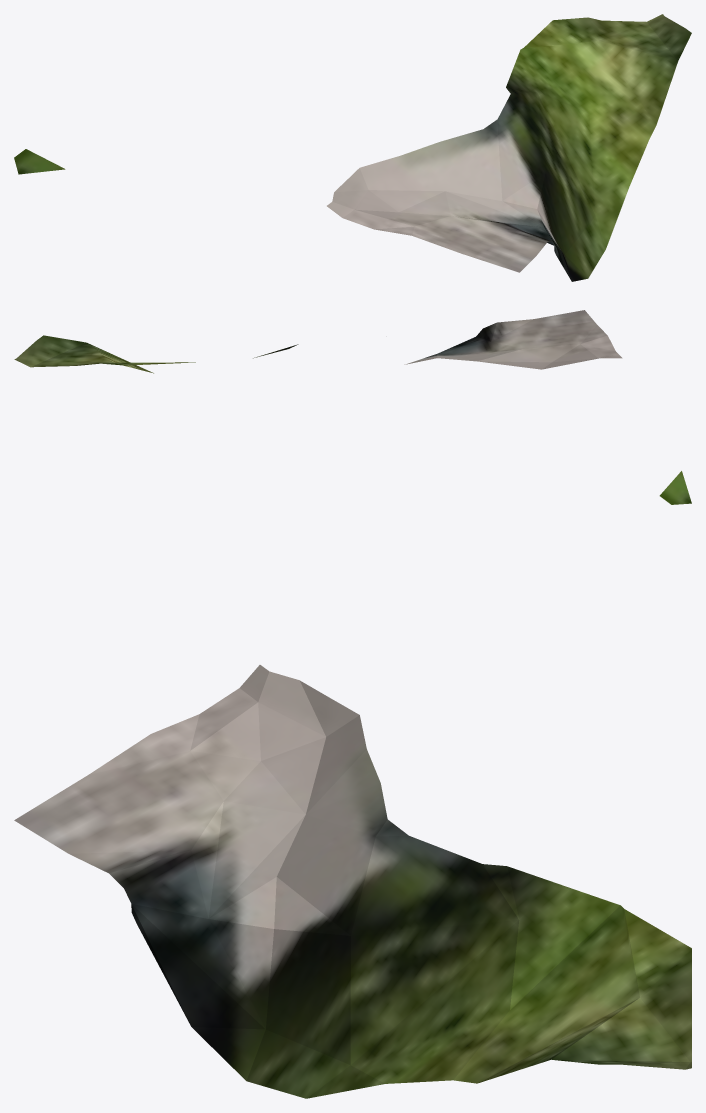
The picture shows the model from 3 angles, top to bottom: view 1: azimuth 30°, elevation 25°; view 2: azimuth 150°, elevation 25°; view 3: azimuth 270°, elevation 25°; orthographic projection. The views are drawn at different scales.
Bounding box in the file's own units: 9.16 × 1.76 × 5.07.
1 material, 1 textured.
